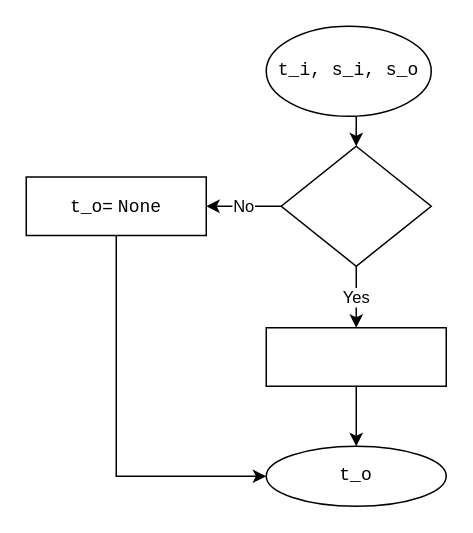
The diagram is 473 pixels wide and 533 high, and some of its shapes have lost their labels. The box of each missing label's shape, as (x1, y1, x2, y2) in pixels:
Arguments OK?: (280, 145, 431, 266)
t_o = converted t_i: (265, 326, 446, 386)
